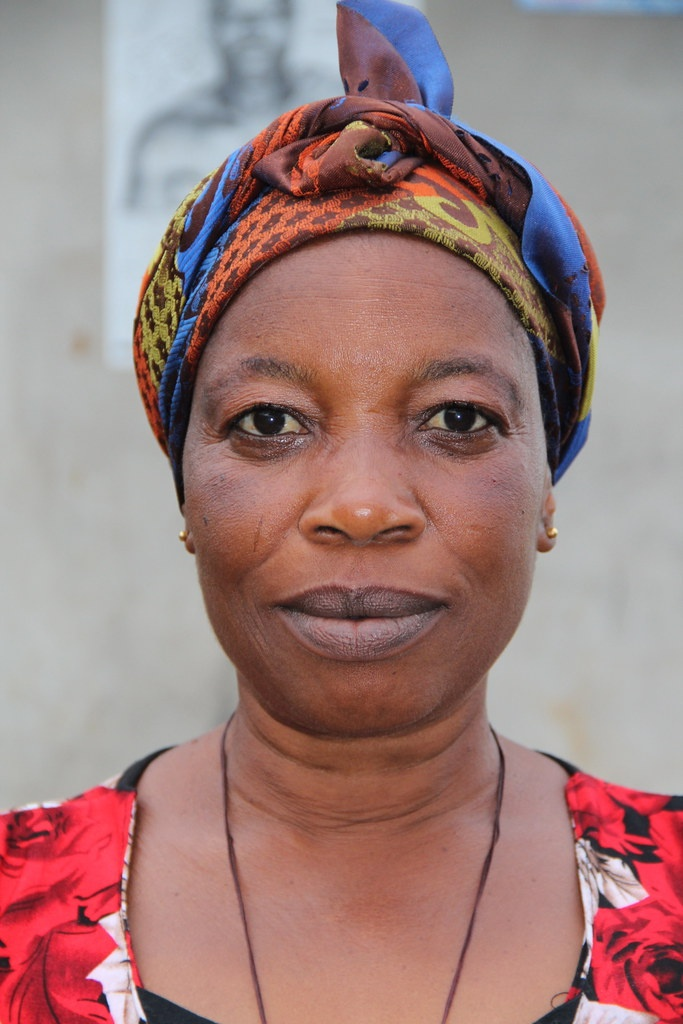without_mask: (180, 255, 572, 726)
